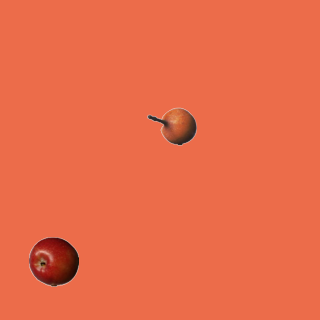Apple Braeburn: (28, 236, 78, 286)
Granadilla: (146, 101, 196, 151)
